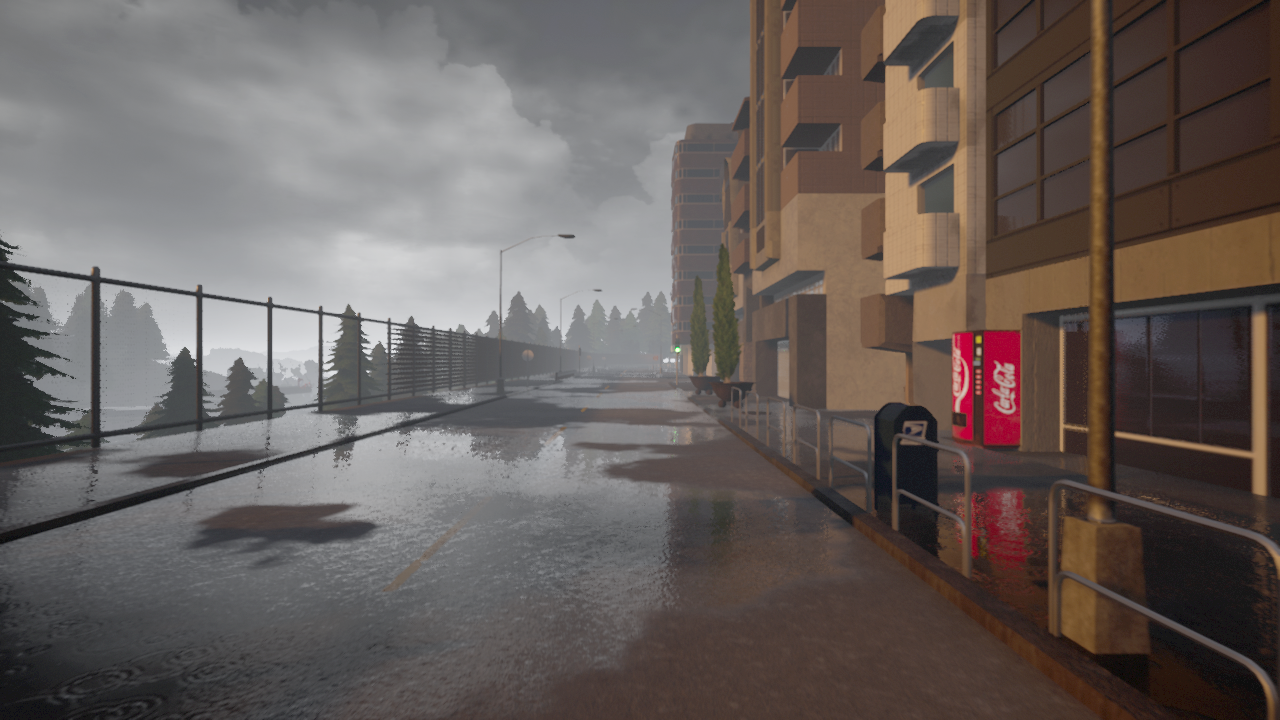green: (674, 339, 681, 353)
